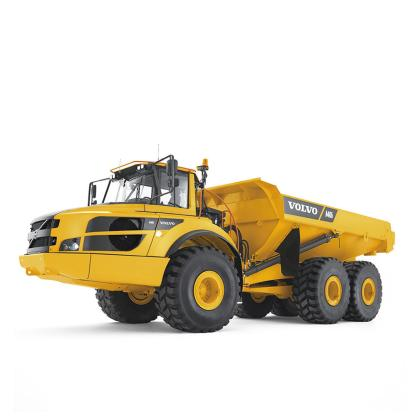dump_truck: (20, 157, 416, 336)
